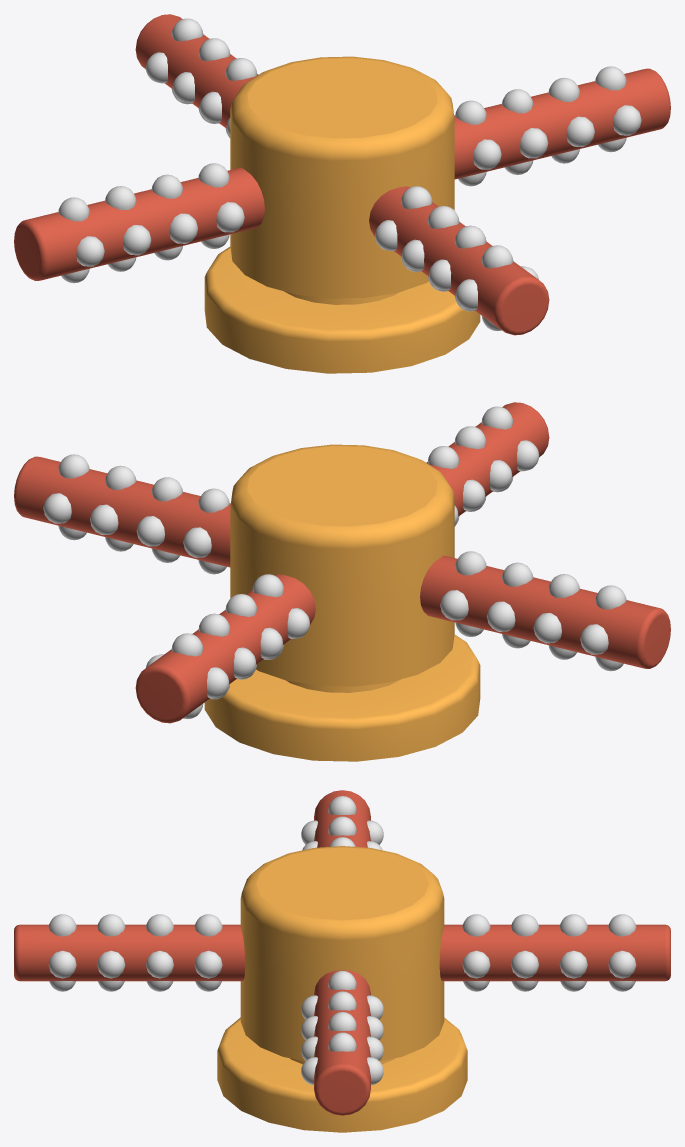
File: SM_Obs_SpinCrusher.fbx
The picture shows the model from 3 angles, top to bottom: view 1: azimuth 30°, elevation 25°; view 2: azimuth 150°, elevation 25°; view 3: azimuth 270°, elevation 25°; orthographic projection. The views are drawn at different scales.
Parts seen in each view (by area): view 1: SM_Obstacle_01a; view 2: SM_Obstacle_01a; view 3: SM_Obstacle_01a.
Boxes of the visible parts, x1,y1,x2,y2 form: SM_Obstacle_01a: [14, 14, 670, 373]; SM_Obstacle_01a: [14, 402, 670, 761]; SM_Obstacle_01a: [14, 790, 670, 1132].
Size of the model in its own units: 639 by 210 by 639.
